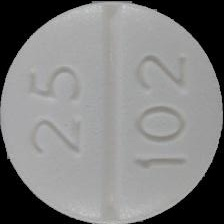13925-504: (0, 0, 224, 224)
